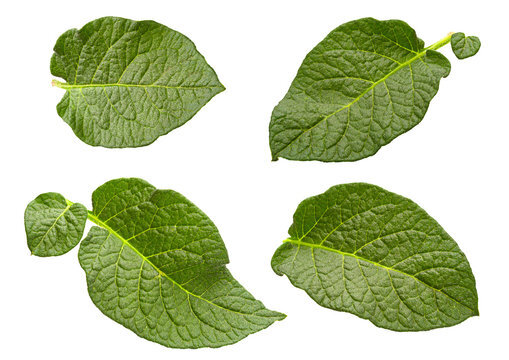potato_leaf: (78, 176, 289, 347), (267, 182, 480, 335), (270, 16, 451, 165), (49, 15, 227, 149), (24, 189, 87, 260), (451, 32, 482, 60)
